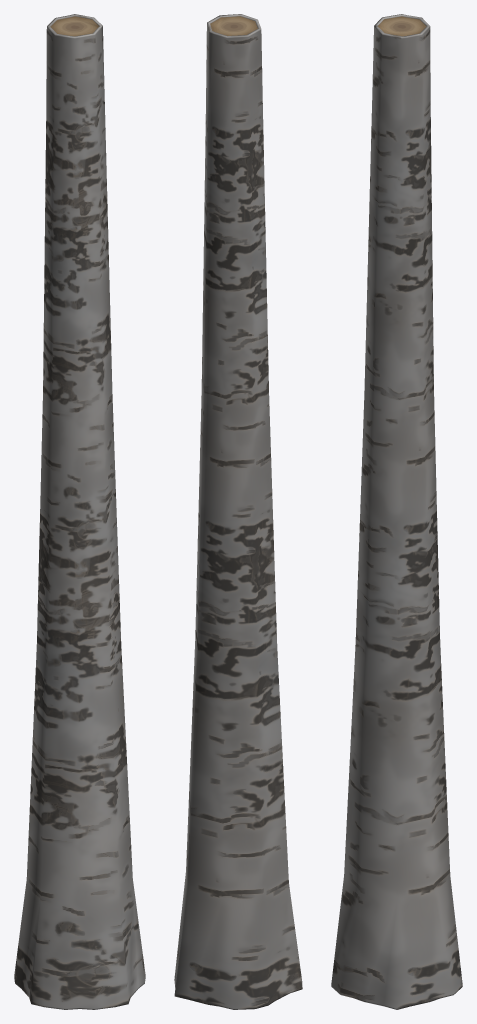
Rendered from tree07_log.fbx.
3 renders of one model, left to right at view 1: azimuth 90°, elevation 25°; view 2: azimuth 210°, elevation 25°; view 3: azimuth 270°, elevation 25°, orthographic.
Parts seen in each view (by area): view 1: tree.008; view 2: tree.008; view 3: tree.008.
Part boxes in pixels (box(x1,y1,x2,y2)): tree.008: box(14, 14, 145, 1009); tree.008: box(174, 14, 302, 1009); tree.008: box(331, 14, 462, 1009).
Bounding box in the file's own units: 37.81 × 300 × 37.43.
